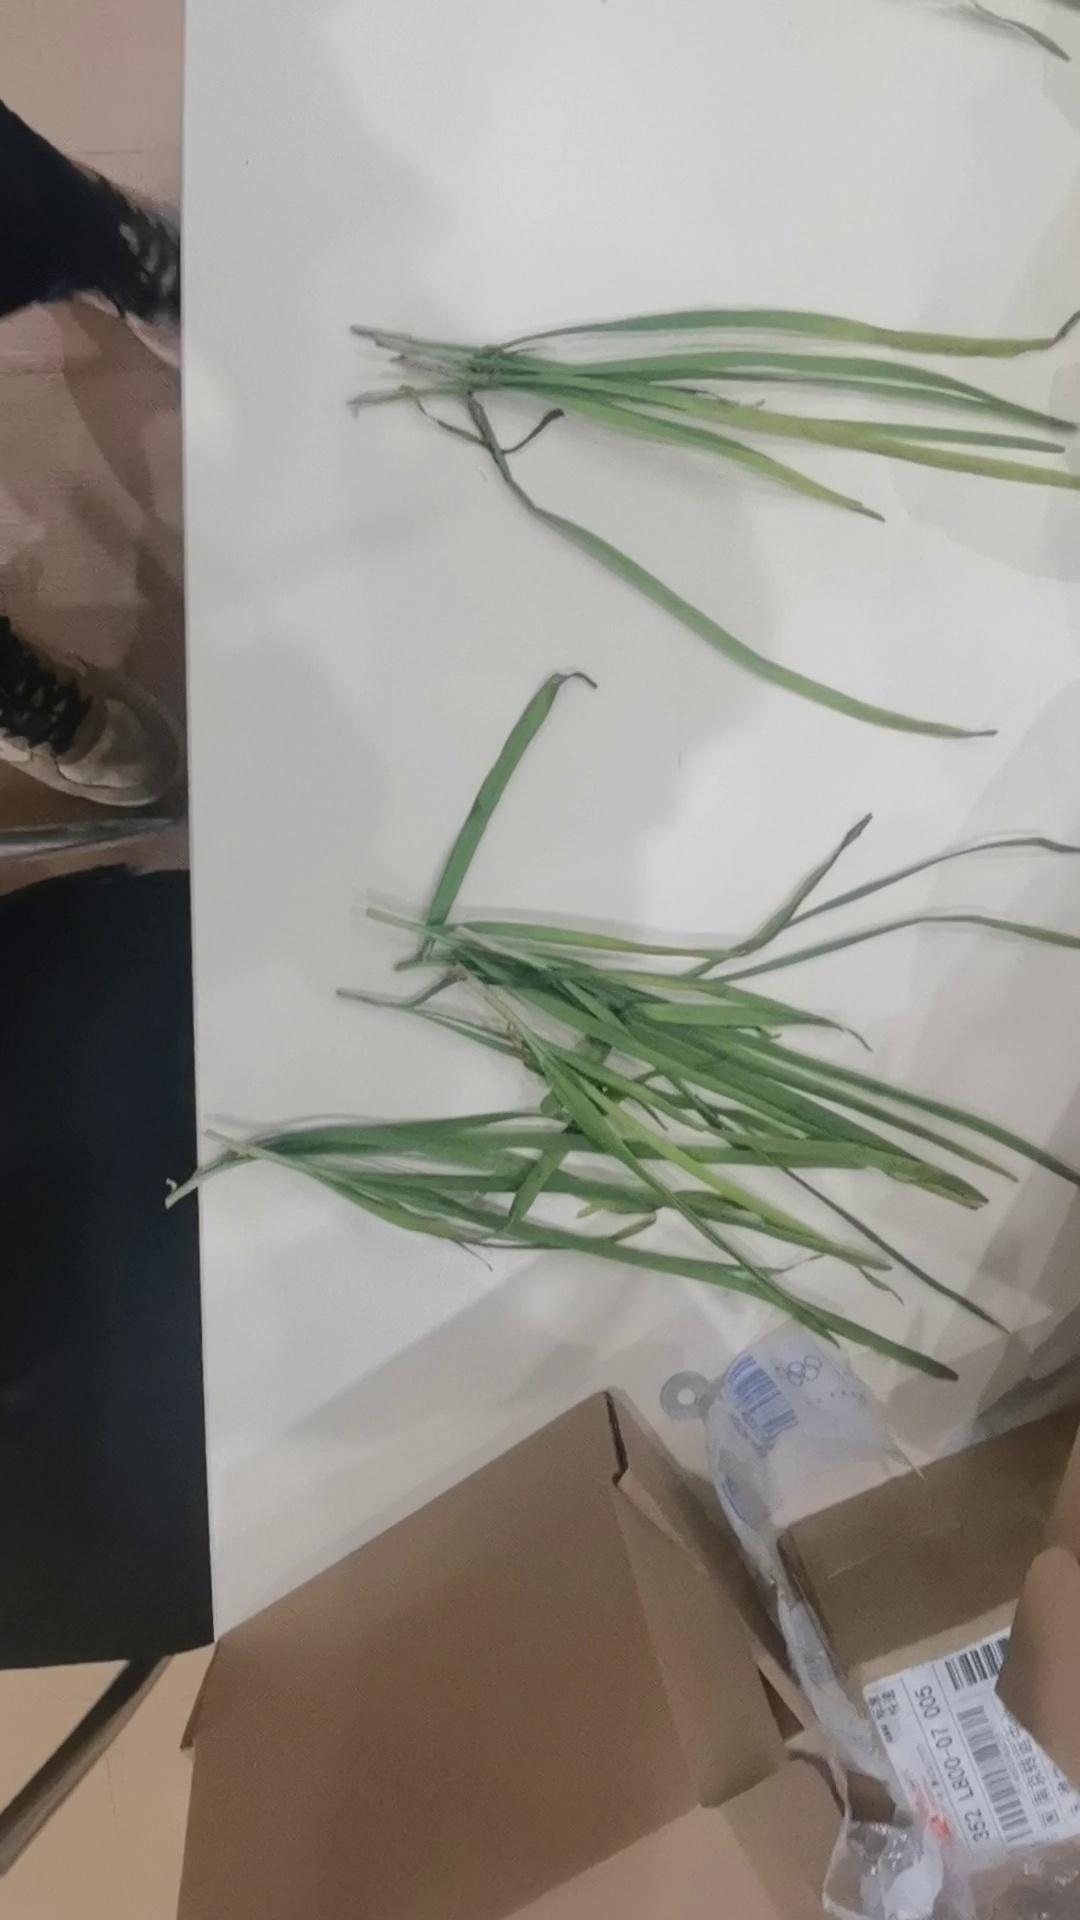chives: (194, 684, 1080, 1382), (310, 307, 1080, 729)
